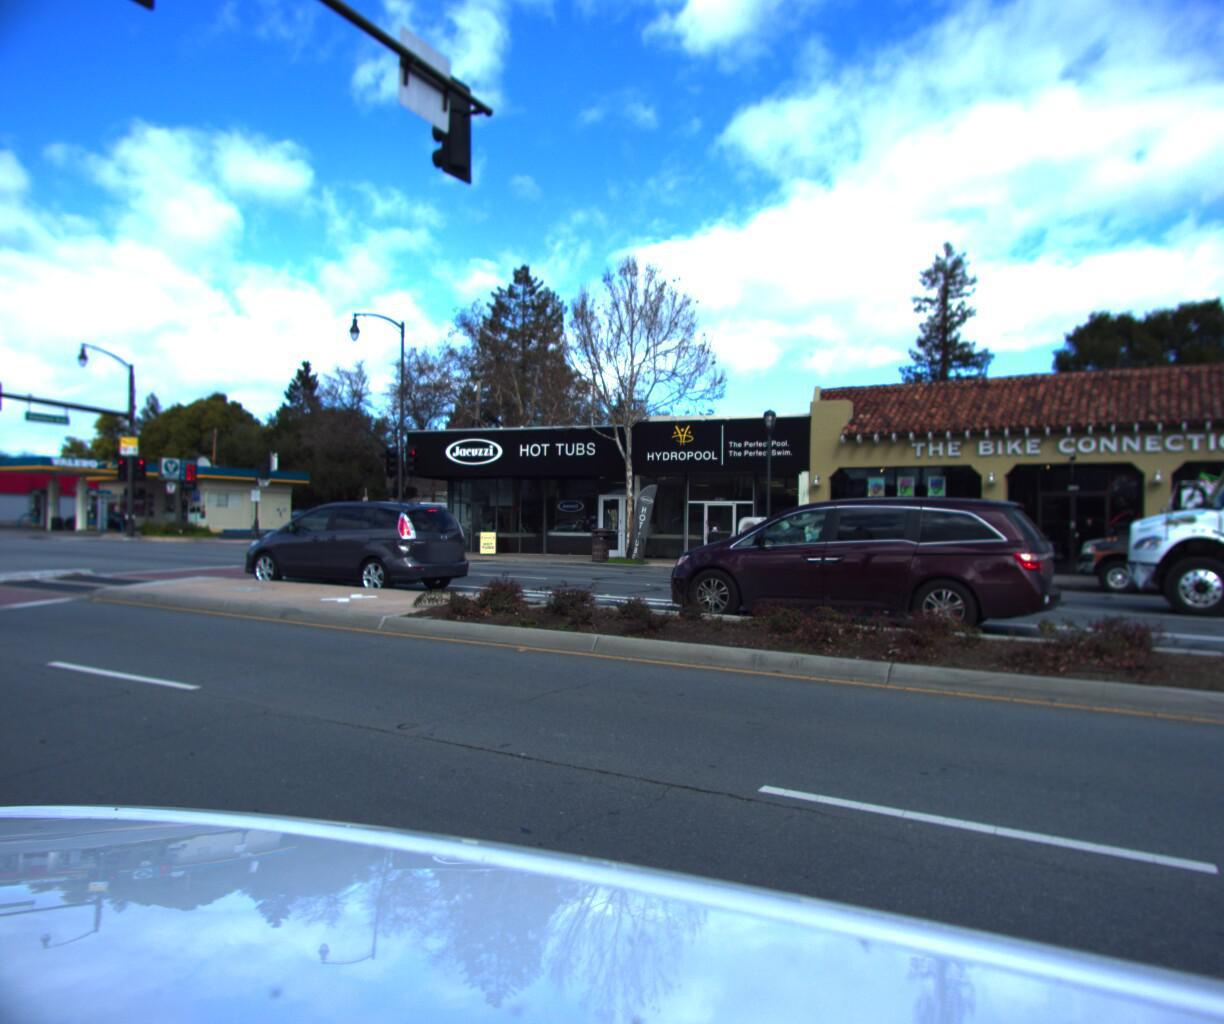car: (639, 488, 1067, 635), (223, 498, 482, 594), (1064, 506, 1224, 601)
truck: (1130, 329, 1224, 676), (388, 503, 468, 542)
